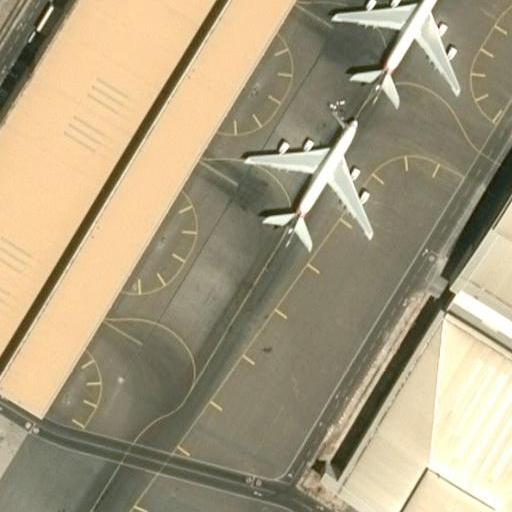Aircraft: (238, 117, 378, 251), (333, 0, 464, 105)
